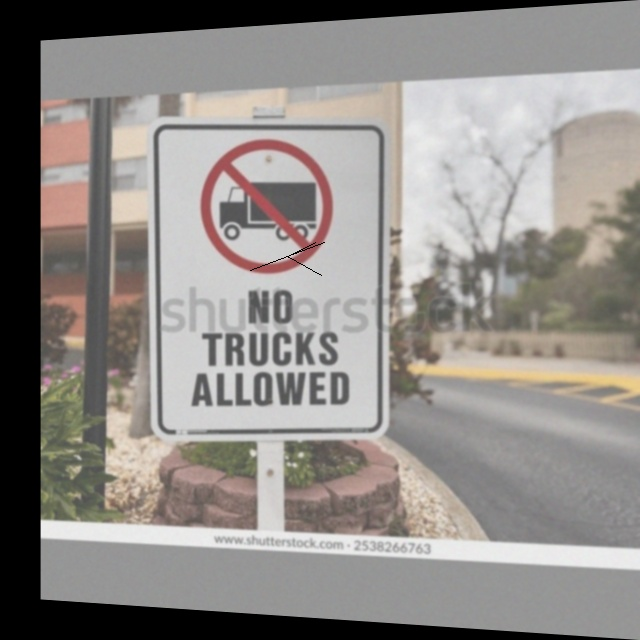Truck_Prohibited: (195, 127, 349, 282)
